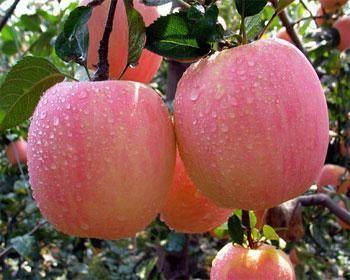apple: (175, 38, 330, 210), (26, 81, 177, 237), (209, 242, 297, 279)
